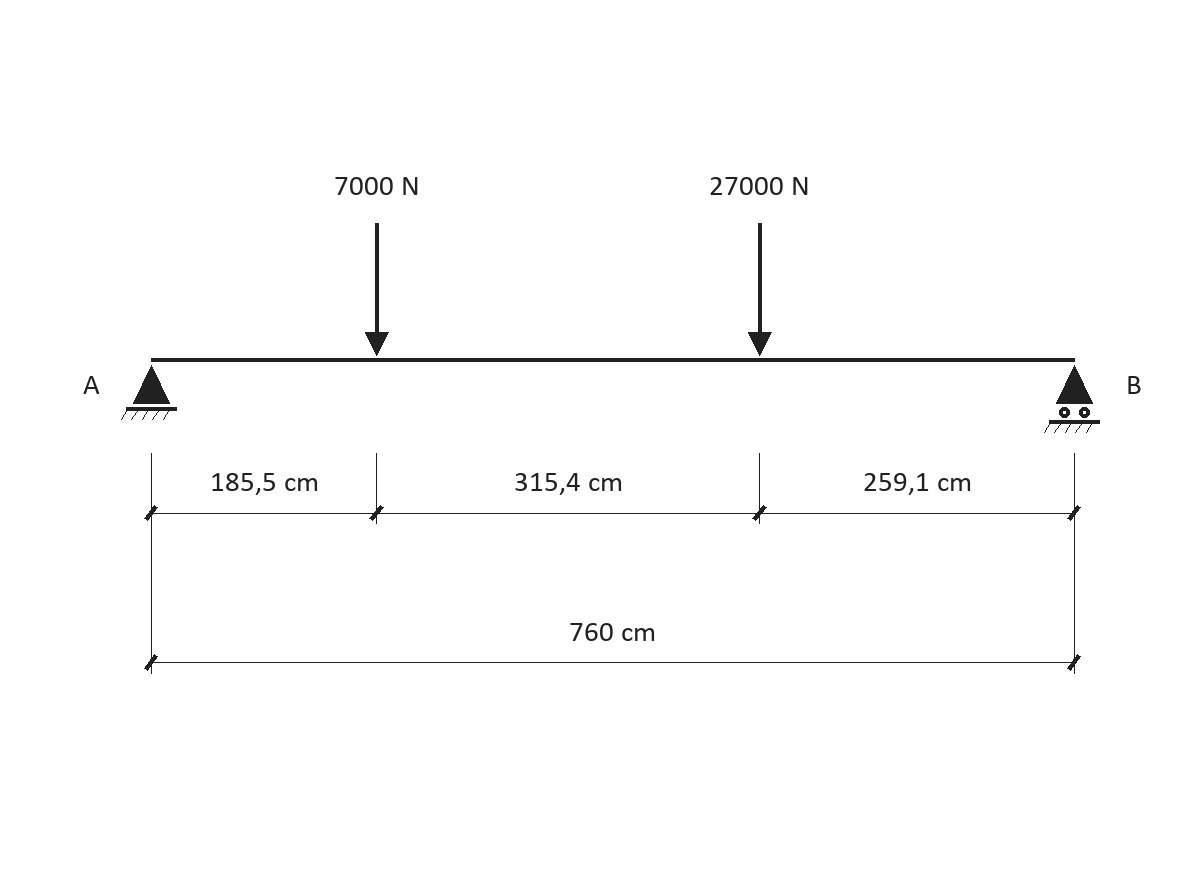pin_support: (121, 365, 177, 420)
point_load: (365, 223, 389, 356), (748, 223, 772, 356)
roller_support: (1044, 365, 1100, 433)
